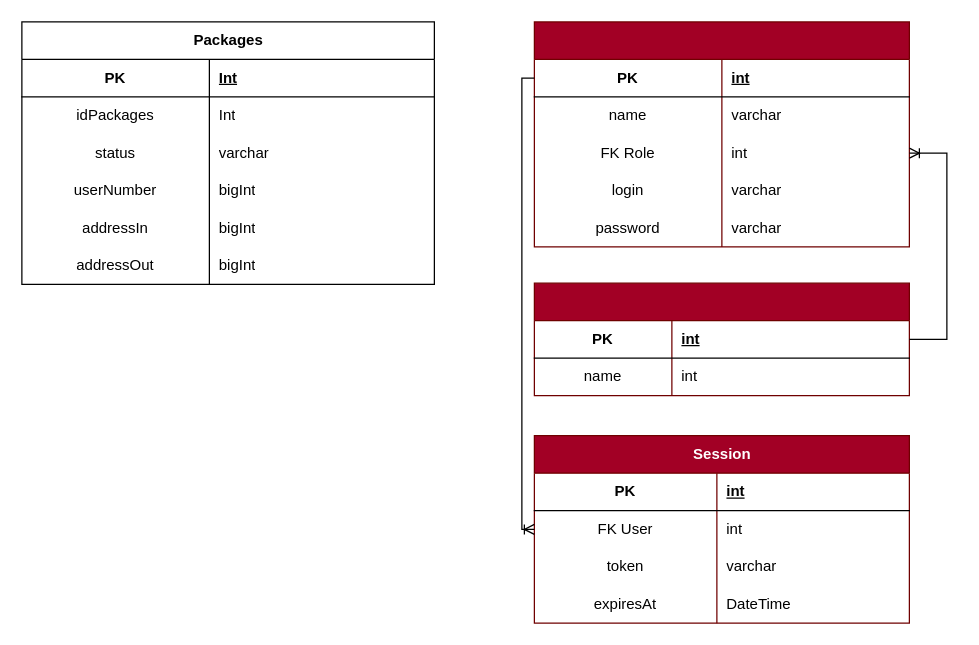
The diagram is 979 pixels wide and 645 high, and some of its shapes have lost their labels. The box of each missing label's shape, as (x1, y1, x2, y2) in pixels:
Role: (533, 282, 909, 396)
User: (533, 21, 909, 247)
